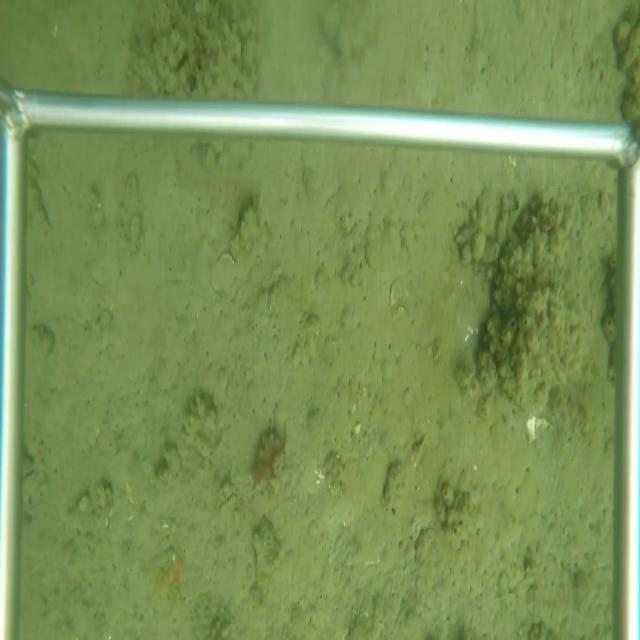Oyster-Indeterminate: (226, 199, 261, 265)
